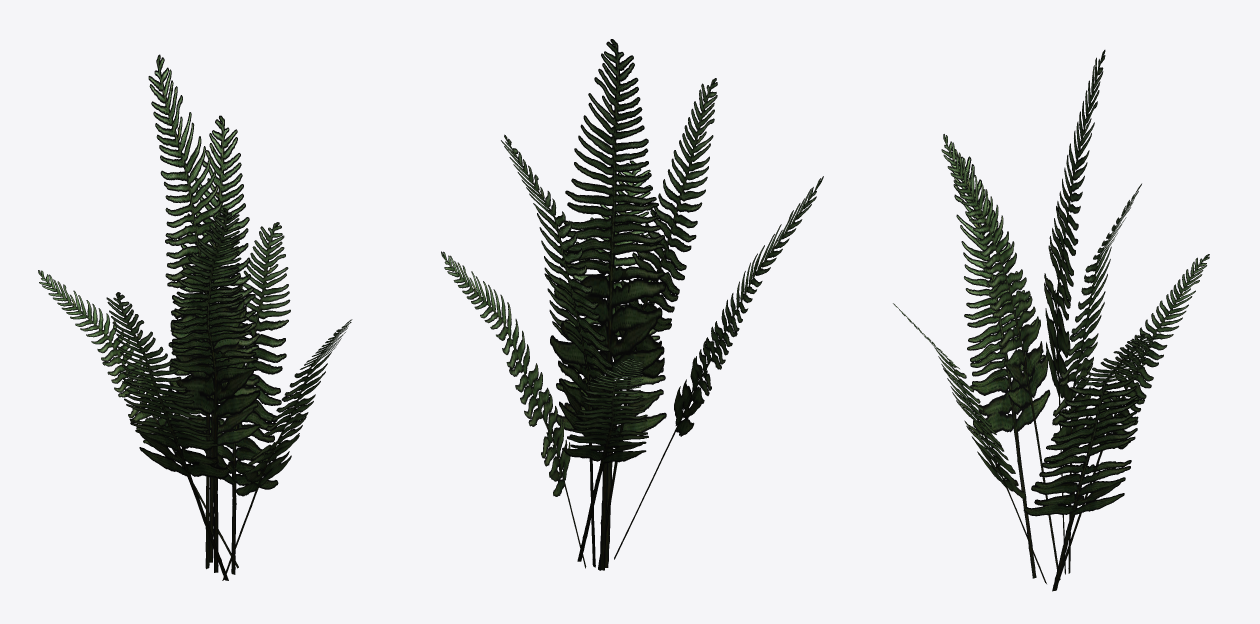
Rendered from tris.obj.
3 renders of one model, left to right at view 1: azimuth 30°, elevation 25°; view 2: azimuth 150°, elevation 25°; view 3: azimuth 270°, elevation 25°, orthographic. The views are drawn at different scales.
Parts seen in each view (by area): view 1: fern; view 2: fern; view 3: fern.
Boxes of the visible parts, <box> form: fern: <box>38,54,352,580</box>; fern: <box>441,39,823,570</box>; fern: <box>893,50,1209,591</box>.
Size of the model in its own units: 47.41 by 76.41 by 49.64.
1 material, 1 textured.
